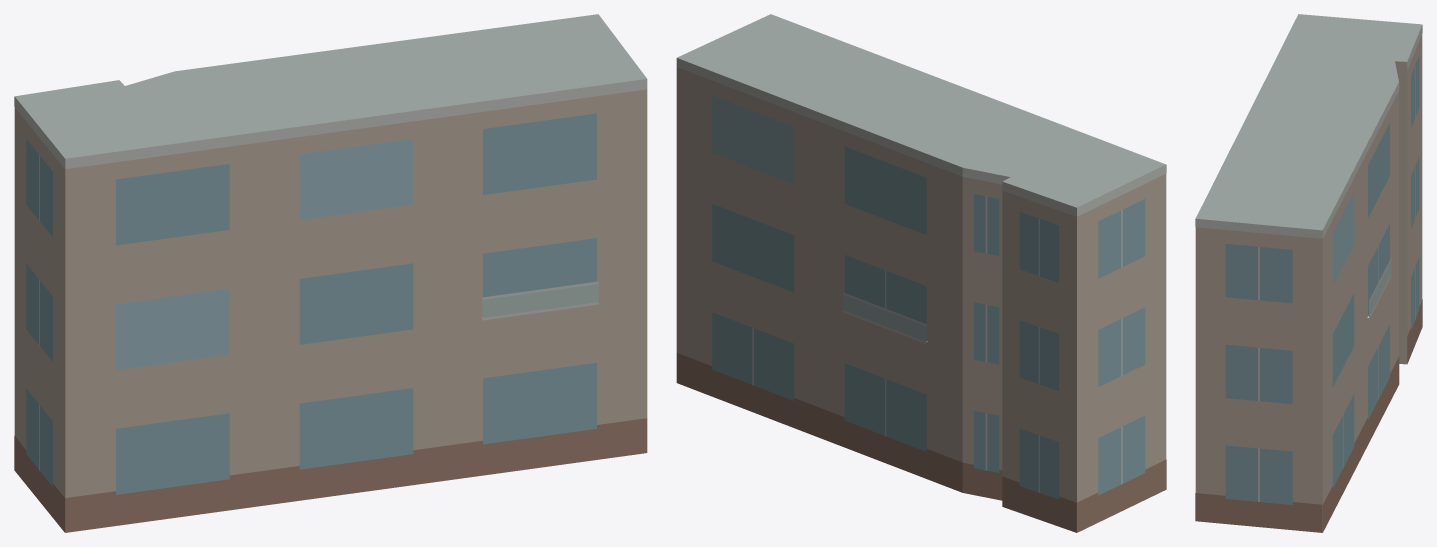
The model's file is survey-upis-32497537.glb.
The picture shows the model from 3 angles, left to right: view 1: azimuth 30°, elevation 25°; view 2: azimuth 150°, elevation 25°; view 3: azimuth 270°, elevation 25°; orthographic projection. The views are drawn at different scales.
Parts seen in each view (by area): view 1: survey-upis-32497537.tmp; view 2: survey-upis-32497537.tmp; view 3: survey-upis-32497537.tmp.
Part boxes in pixels (x1,y1,x2,y2): survey-upis-32497537.tmp: (14,14,647,532); survey-upis-32497537.tmp: (676,14,1166,532); survey-upis-32497537.tmp: (1195,14,1422,532).
Bounding box in the file's own units: 13.43 × 8.75 × 5.96.
